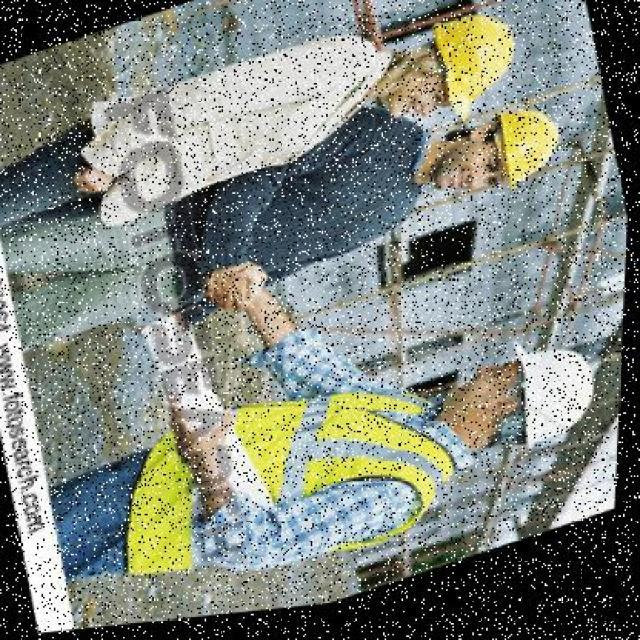helmet: (495, 326, 613, 468), (426, 9, 532, 137), (486, 102, 574, 203)
vest: (102, 349, 469, 627)
